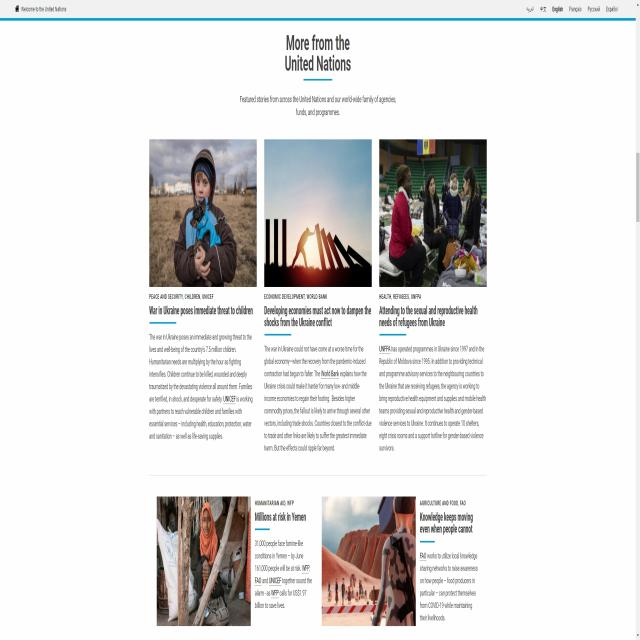tab-bar: (524, 1, 623, 13)
